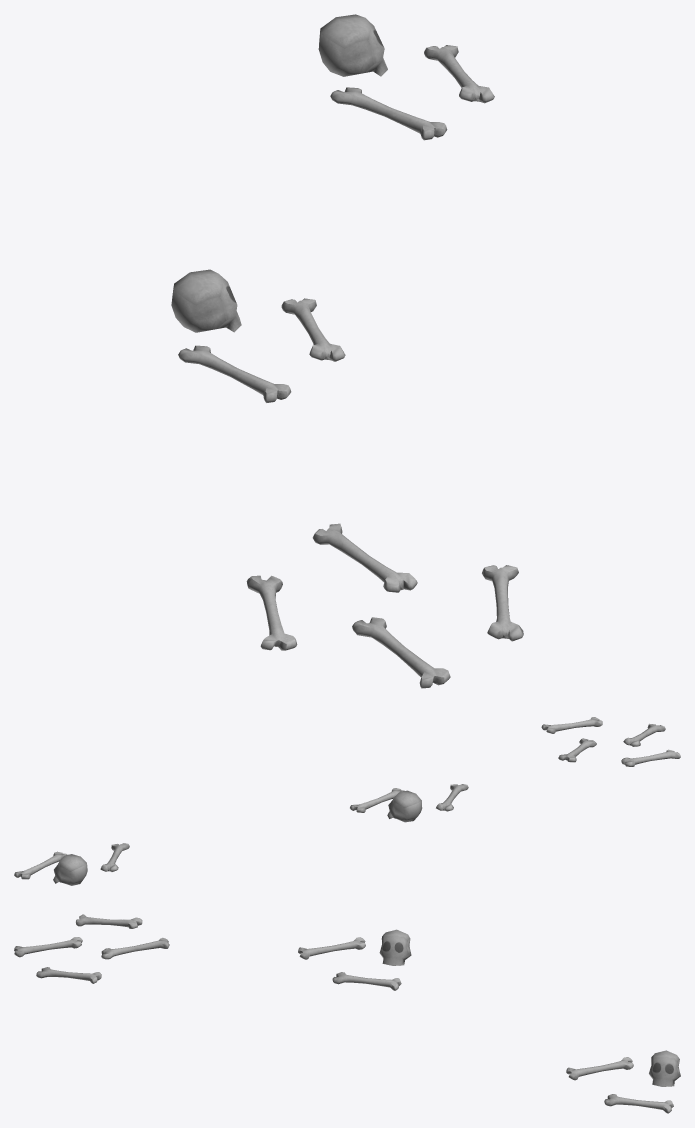
Rendered from Bone.fbx.
3 renders of one model, top to bottom at view 1: azimuth 30°, elevation 25°; view 2: azimuth 150°, elevation 25°; view 3: azimuth 270°, elevation 25°, orthographic. The views are drawn at different scales.
Visible parts, largest first — view 1: skeleton_2_5, skeleton_1, skeleton_1_5; view 2: skeleton_1_5, skeleton_2_5, skeleton_1; view 3: skeleton_2_5, skeleton_1_5, skeleton_1.
Boxes of the visible parts, x1=… form: skeleton_2_5: x1=246, y1=523, x2=523, y2=688; skeleton_1: x1=171, y1=269, x2=345, y2=402; skeleton_1_5: x1=318, y1=14, x2=494, y2=140; skeleton_1_5: x1=14, y1=843, x2=129, y2=885; skeleton_2_5: x1=541, y1=717, x2=680, y2=766; skeleton_1: x1=350, y1=784, x2=468, y2=822; skeleton_2_5: x1=14, y1=914, x2=169, y2=983; skeleton_1_5: x1=566, y1=1050, x2=680, y2=1113; skeleton_1: x1=298, y1=929, x2=411, y2=990.
Size of the model in its own units: 563 by 76.64 by 825.
Materials: 1 (1 with a texture image).
